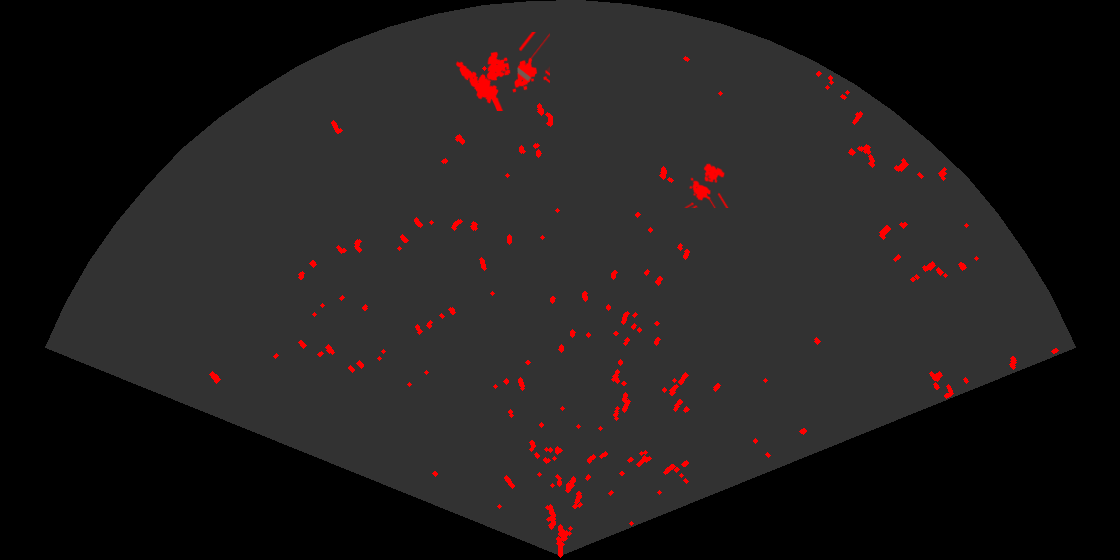cage: (485, 32, 550, 94), (683, 162, 731, 208)
frogman: (454, 59, 505, 111)
